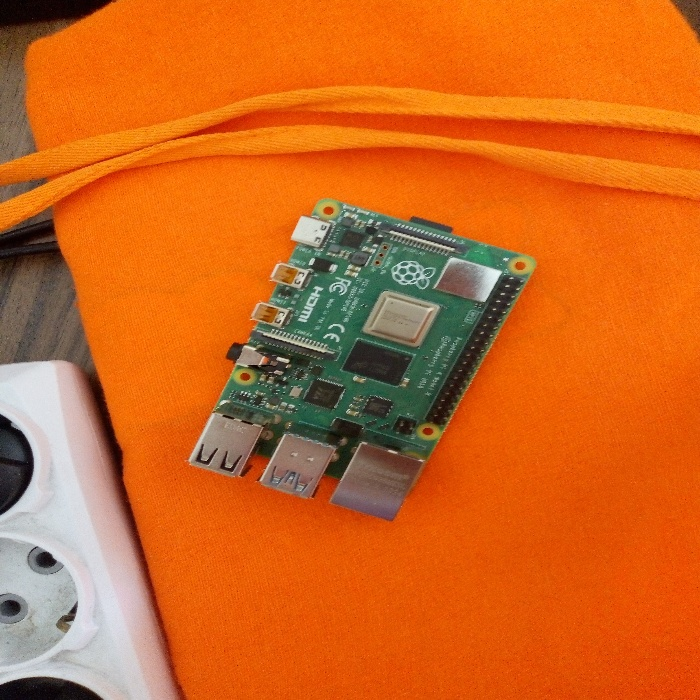raspberry: (187, 188, 545, 533)
